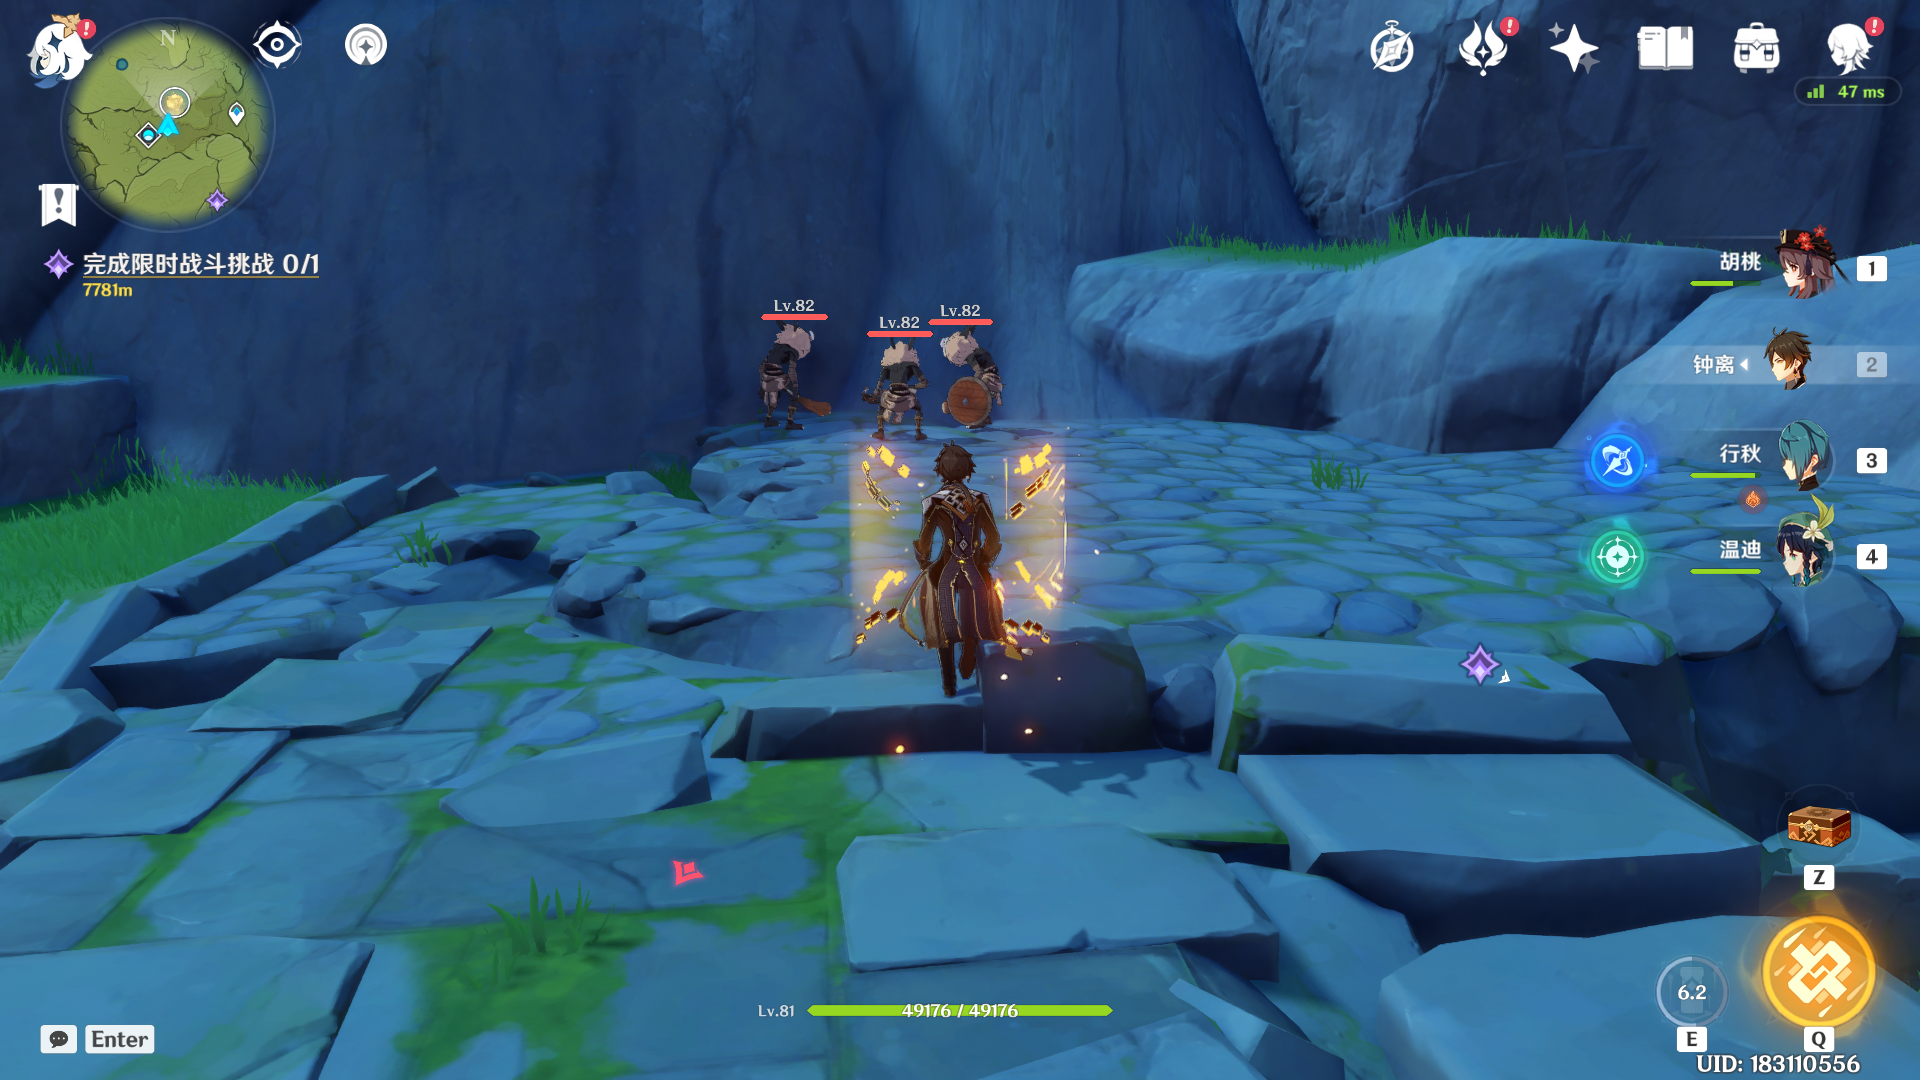character: (861, 430, 1095, 703)
hili: (735, 294, 852, 459), (920, 324, 1044, 455), (847, 335, 938, 444)
